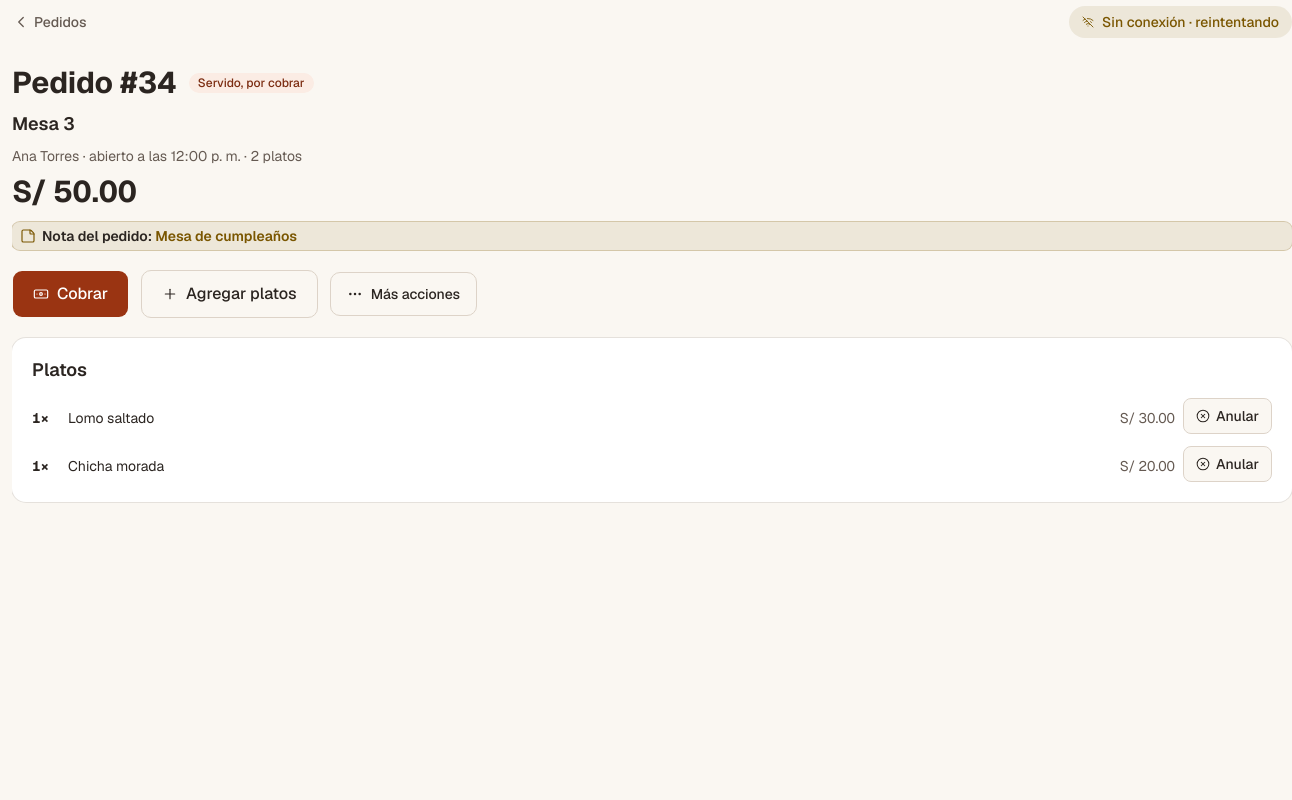
OrderDetailView: lo que se lee › muestra número, lugar, estado, mesero, total y los platos con precio
Expected: the heading "Pedido #34" is shown, [12, 64, 177, 102]
Expected: the text "Mesa 3" is shown, [12, 112, 75, 134]
Click the button with aria-label "Más acciones del pedido" at (403, 294), box [330, 272, 477, 316]
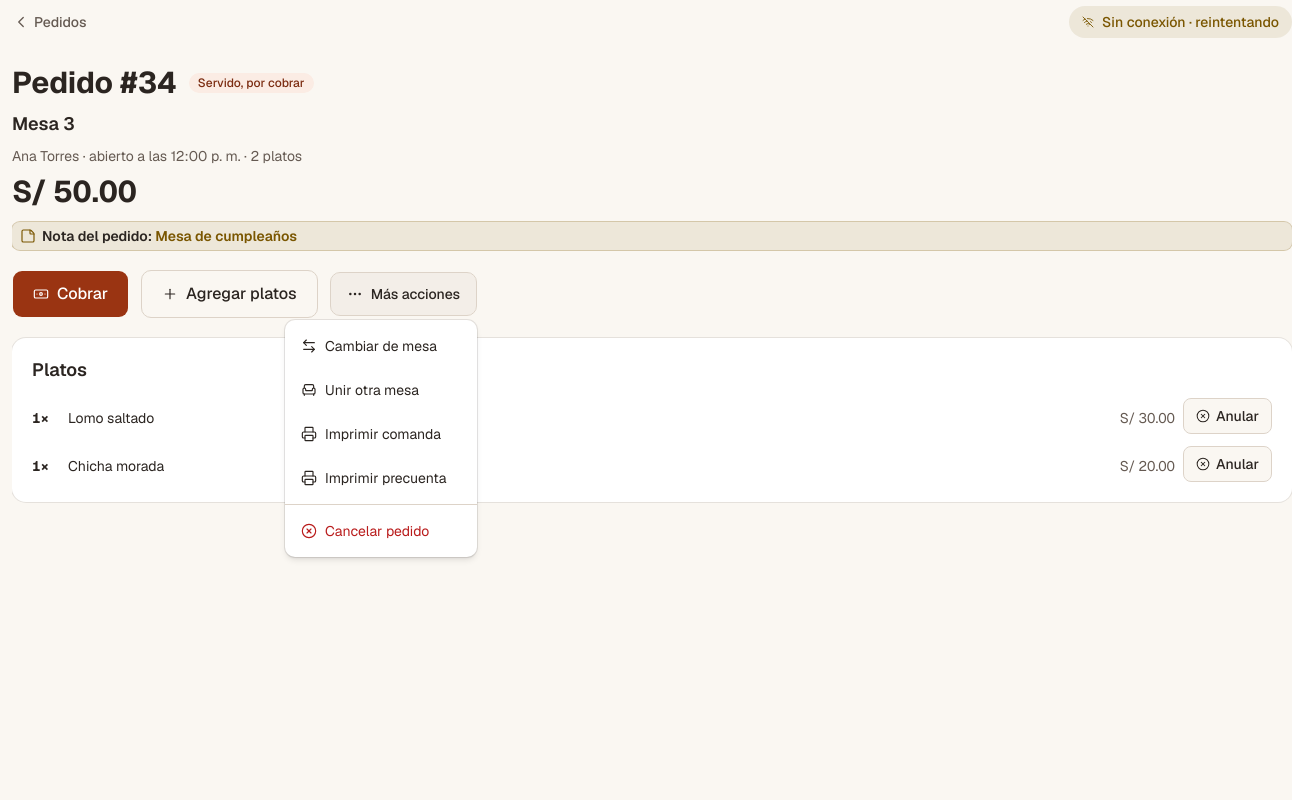
Expected: the menu item "Imprimir precuenta" is shown, [301, 469, 446, 487]
Expected: the menu item "Imprimir comanda" is shown, [301, 425, 441, 443]
